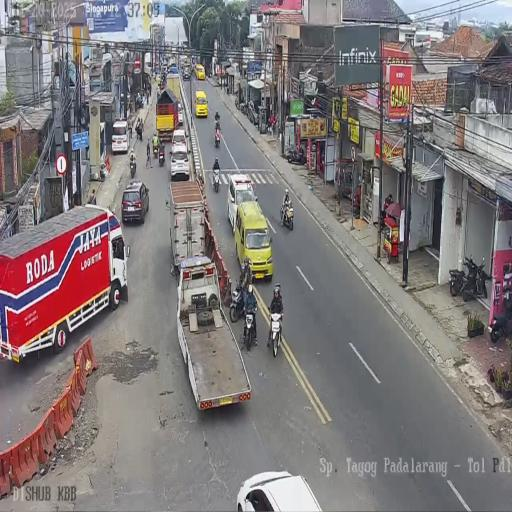3: (168, 179, 208, 278), (156, 87, 179, 141), (181, 57, 191, 80), (144, 52, 151, 75), (162, 58, 168, 74)
car: (236, 470, 325, 511), (234, 200, 273, 280), (121, 179, 150, 223), (111, 118, 130, 154), (171, 128, 188, 156), (195, 90, 208, 117), (246, 100, 259, 124), (195, 64, 205, 81), (178, 102, 183, 126), (168, 64, 178, 75)
truck: (461, 254, 489, 301), (489, 292, 511, 342), (267, 310, 284, 358), (229, 281, 248, 323), (242, 304, 258, 352), (280, 198, 294, 231), (449, 268, 465, 296), (286, 143, 305, 166), (212, 166, 221, 192), (214, 126, 221, 148), (158, 147, 165, 166), (130, 156, 136, 177), (136, 92, 143, 110), (153, 139, 159, 158), (160, 72, 166, 91), (240, 99, 246, 115), (214, 116, 220, 129), (156, 87, 161, 101)
